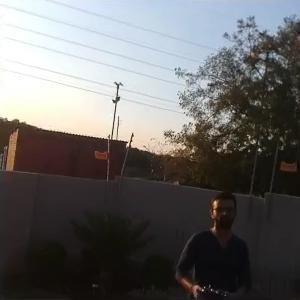follow: (168, 184, 256, 298)
